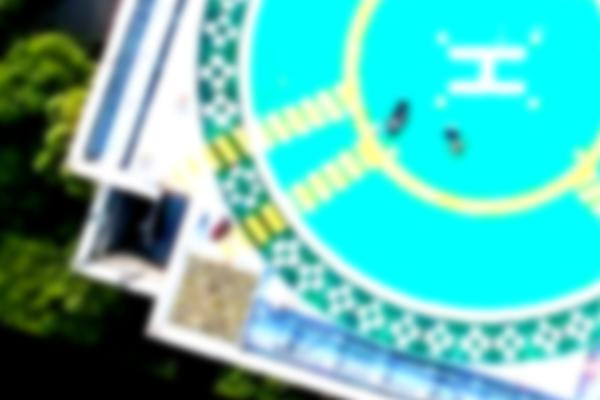Apron: (335, 4, 589, 189)
